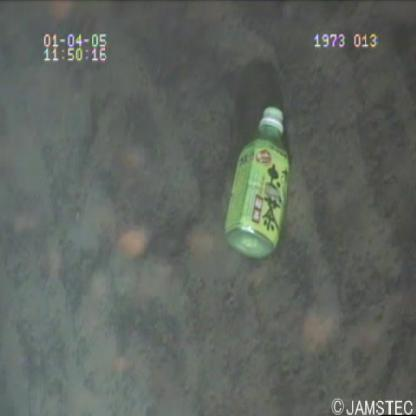Rác: (222, 105, 303, 280)
